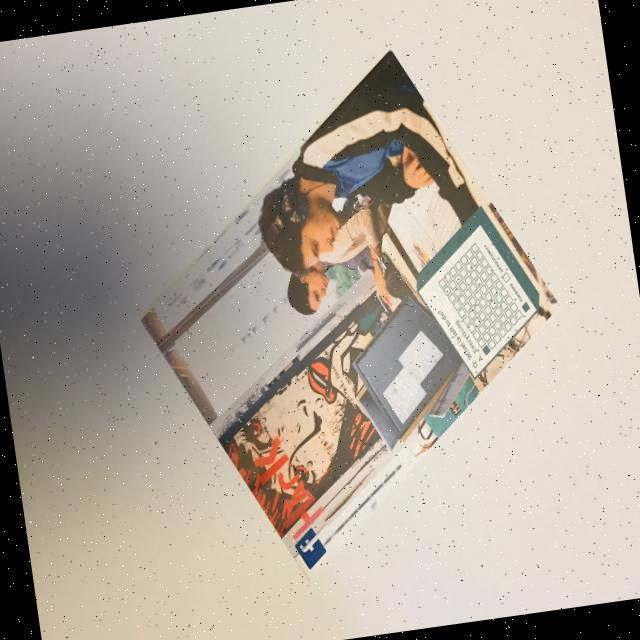paper: (107, 30, 592, 600)
